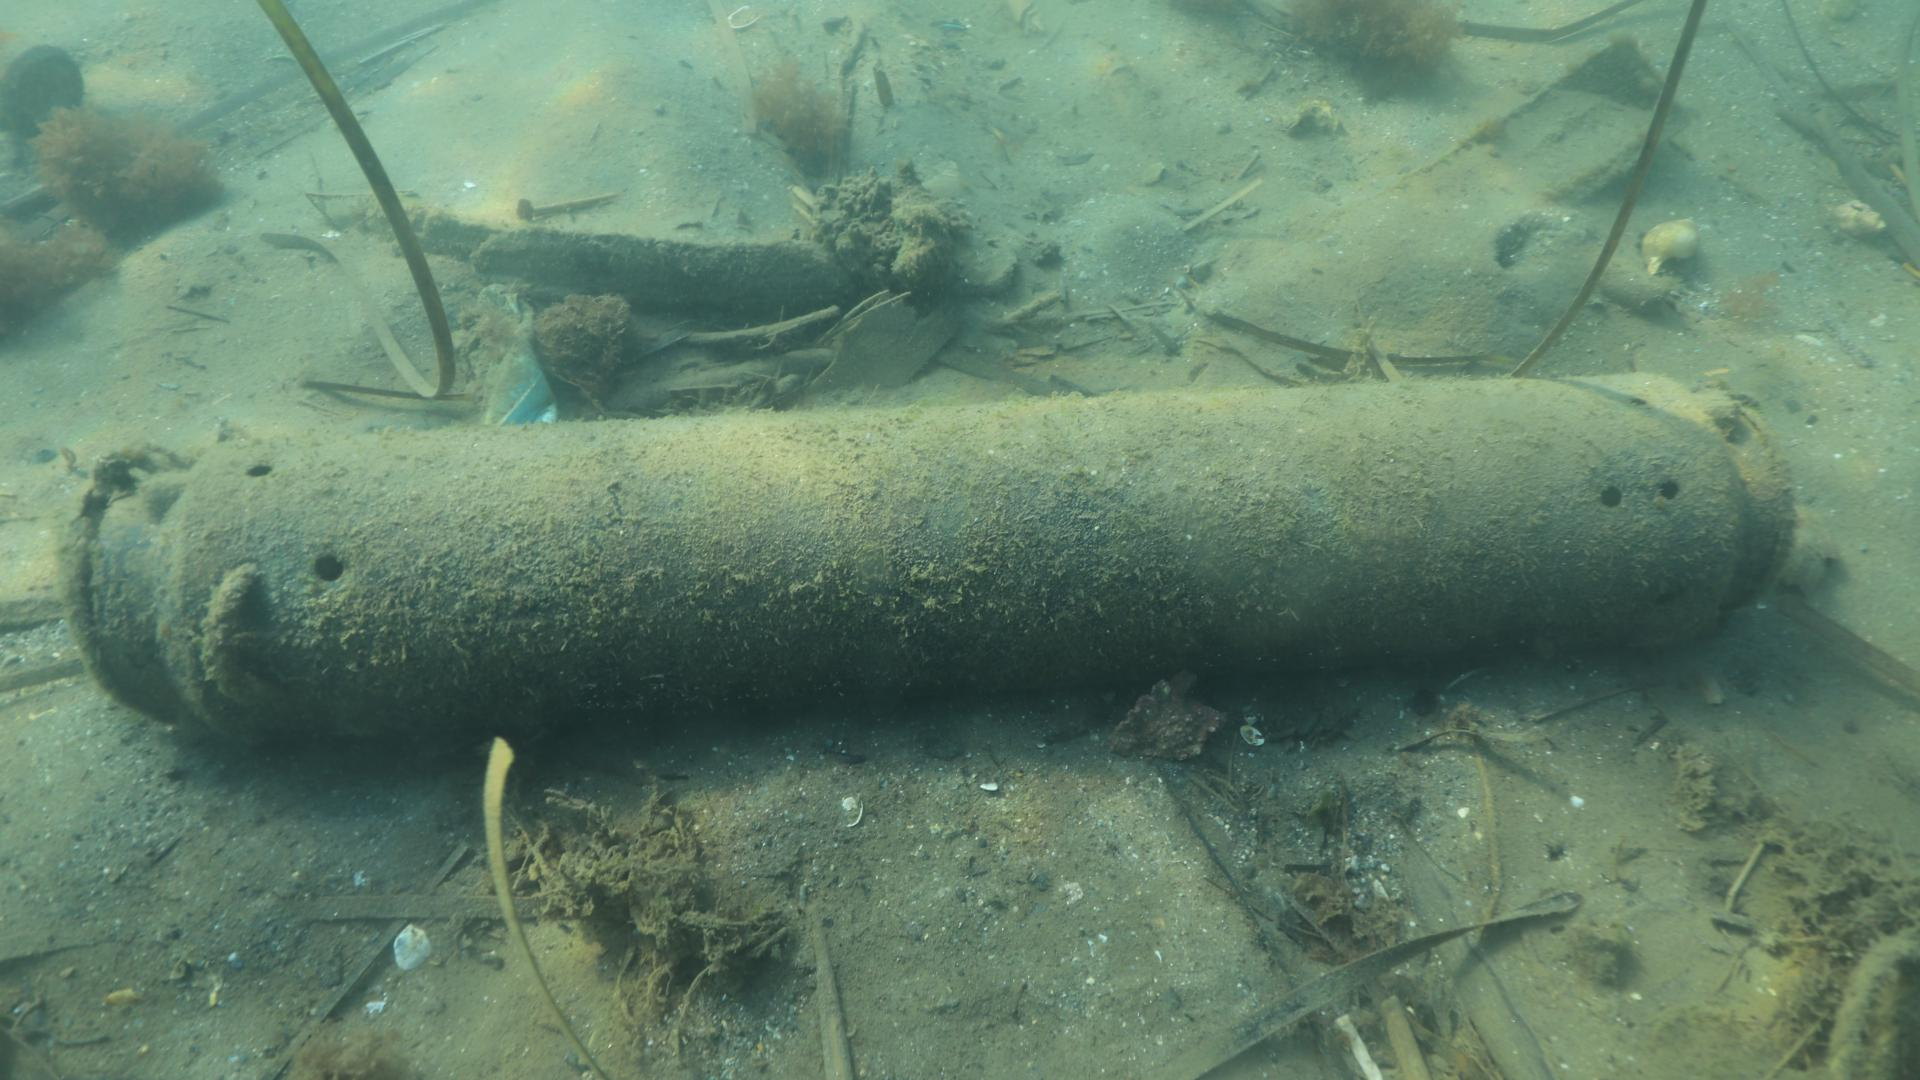eel fish trap: (55, 367, 1795, 758)
